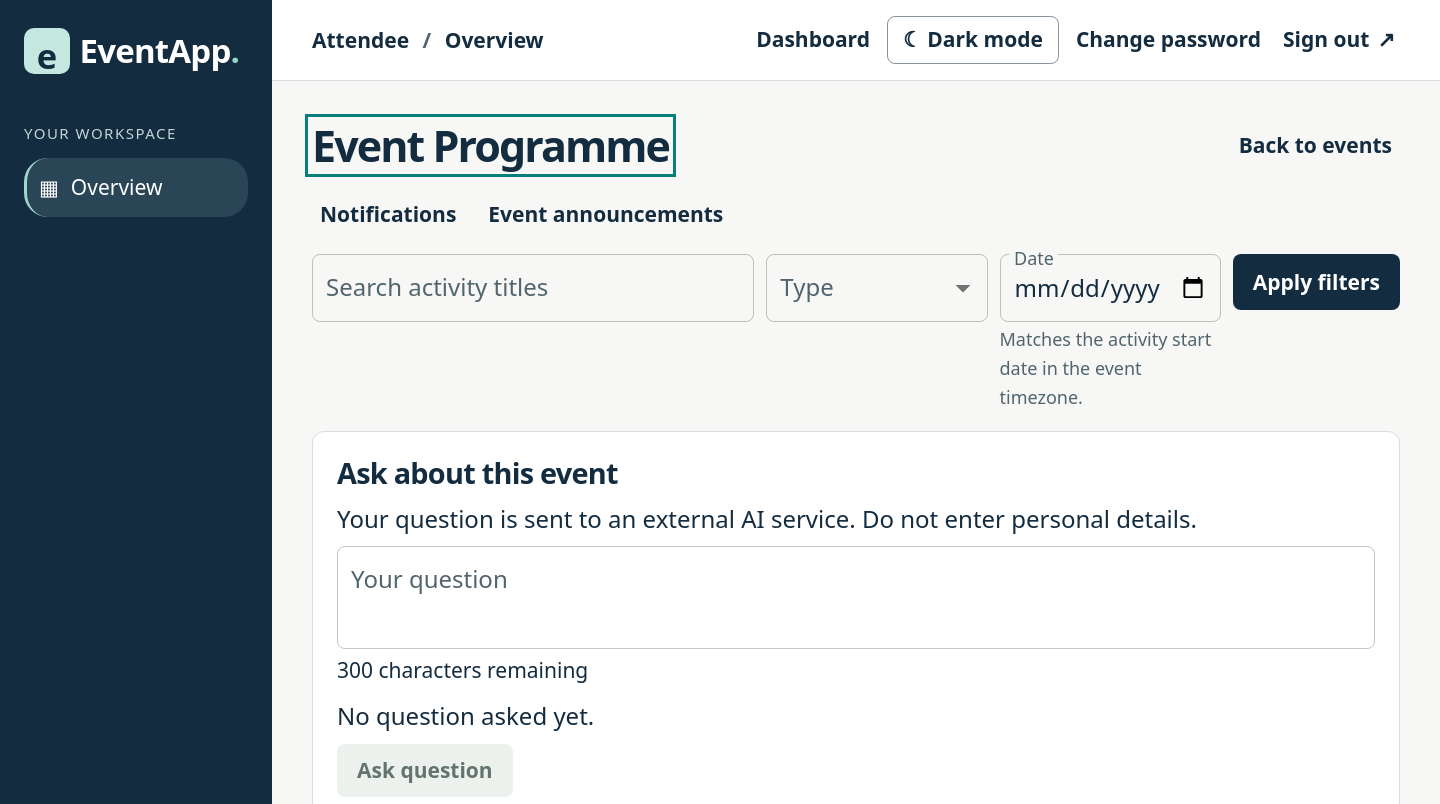
it: F03-US02 attendee event question UI (AC01-AC06) › F03Q-UI09 an unknown result (insufficient_evidence) gives its reason, no facts, no summary and a way to browse
expect the heading "Event Programme" is shown: met, box [312,121,669,170]
Step 1. Click the text box labelled "Your question" → x=856, y=598, box [351,563,1361,633]
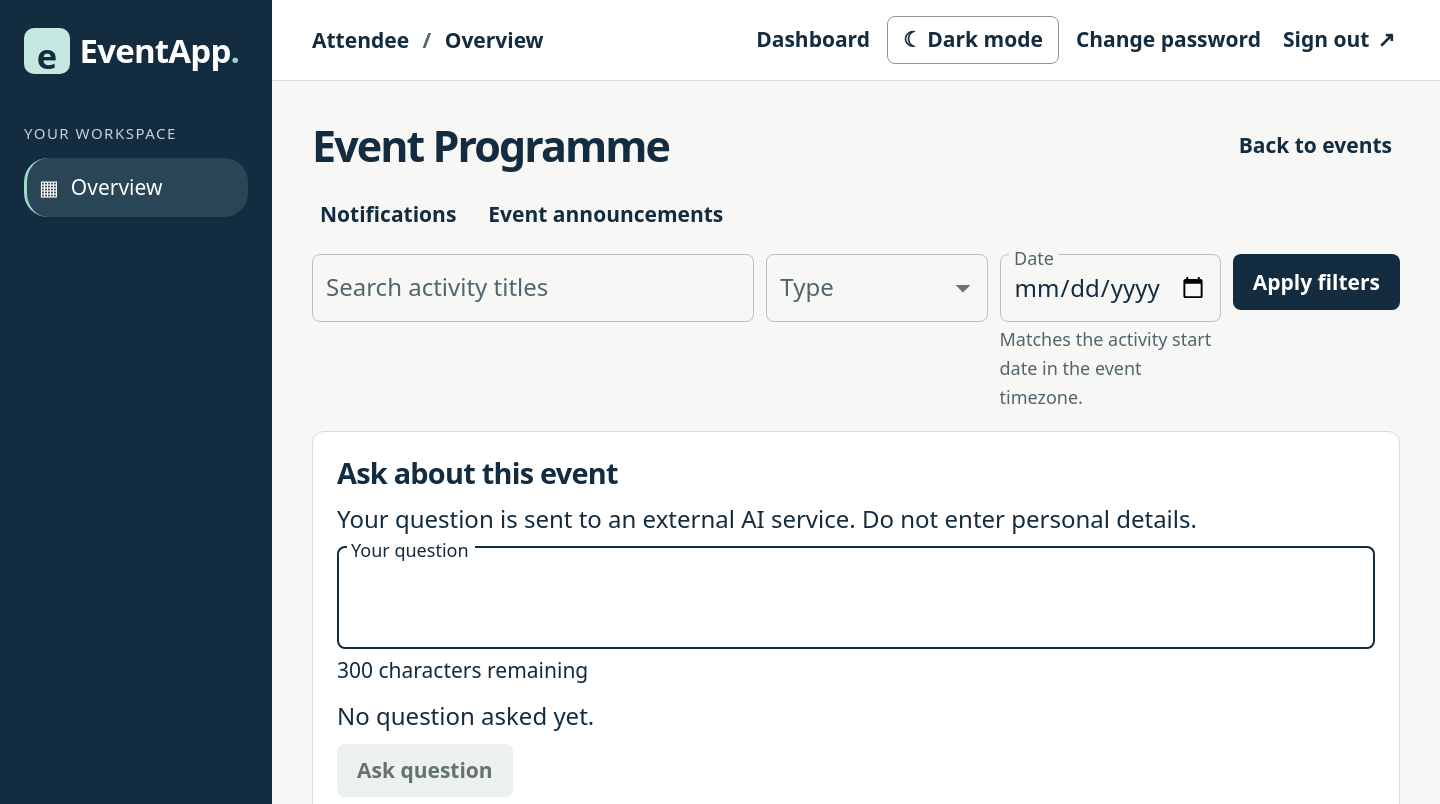
Step 2. Type keys "When does the evening workshop start and what does it cost?"
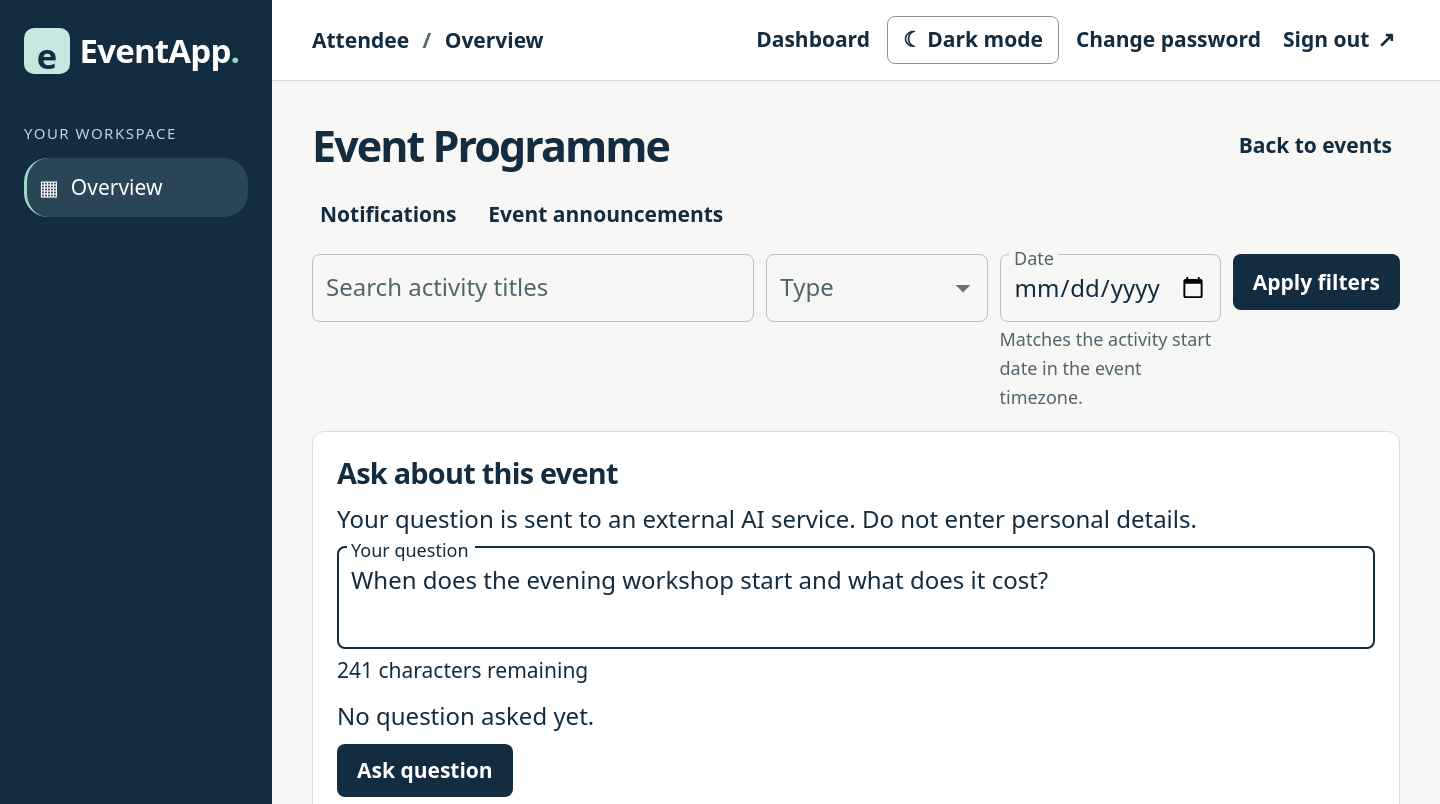
Step 3. Click the button "Ask question" → x=425, y=770, box [337,744,513,797]
(page scrolled)
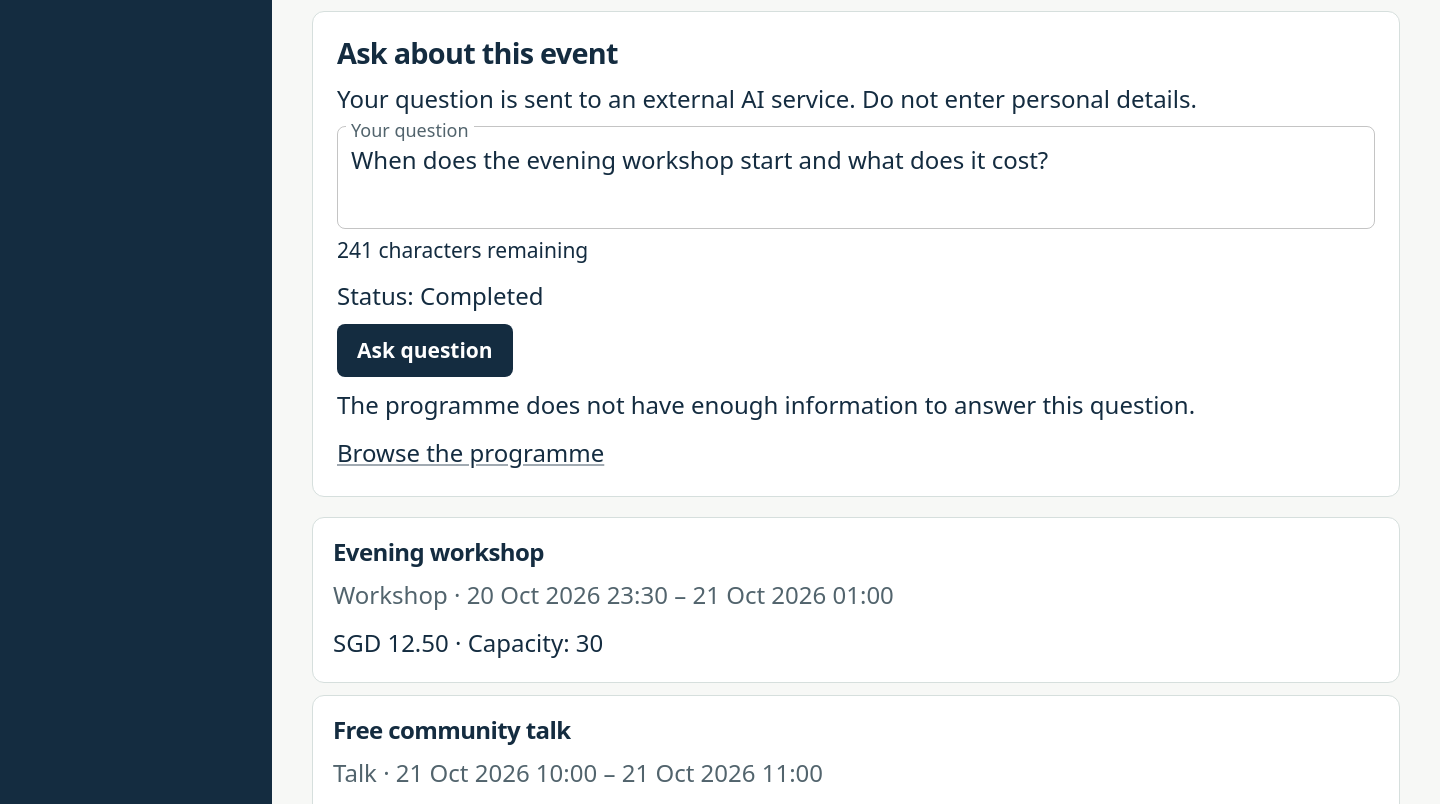
expect the message named "Question status" shows "Completed": met, box [337,279,544,312]
expect the text "The programme does not have enough information to answer this question." is shown: met, box [337,388,1195,421]
